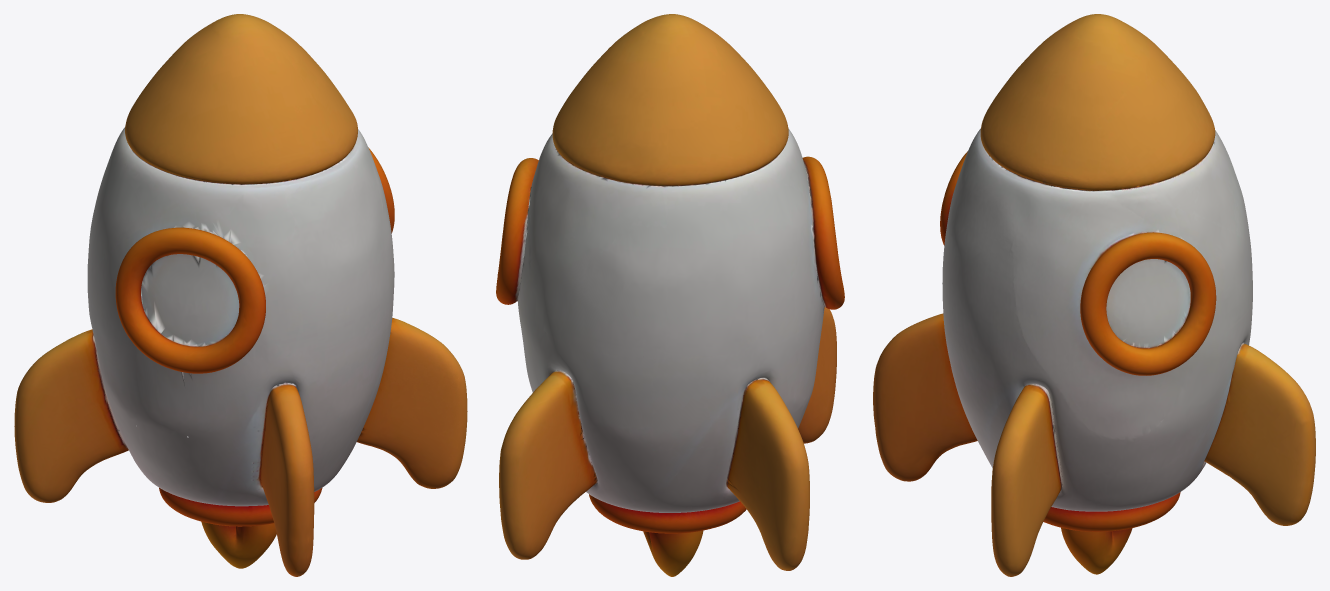
The model's file is rocket.glb.
The picture shows the model from 3 angles, left to right: view 1: azimuth 30°, elevation 25°; view 2: azimuth 150°, elevation 25°; view 3: azimuth 270°, elevation 25°; orthographic projection.
Visible parts, largest first — view 1: tripo_node_c38698f8-ccbc-4f45-a499-86c5a812f0da; view 2: tripo_node_c38698f8-ccbc-4f45-a499-86c5a812f0da; view 3: tripo_node_c38698f8-ccbc-4f45-a499-86c5a812f0da.
Boxes of the visible parts, box(x1,y1,x2,y2) form: tripo_node_c38698f8-ccbc-4f45-a499-86c5a812f0da: box(14, 14, 467, 576); tripo_node_c38698f8-ccbc-4f45-a499-86c5a812f0da: box(496, 14, 844, 576); tripo_node_c38698f8-ccbc-4f45-a499-86c5a812f0da: box(873, 14, 1315, 576).
Size of the model in its own units: 0.6669 by 0.9789 by 0.7063.
Materials: 1 (1 with a texture image).
